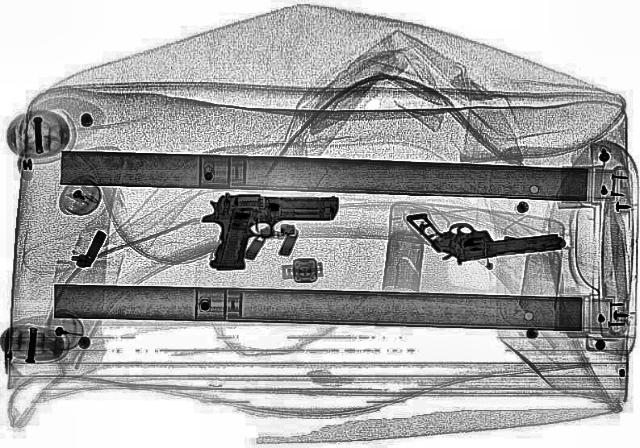Gun: (402, 196, 568, 270), (196, 190, 340, 274)
